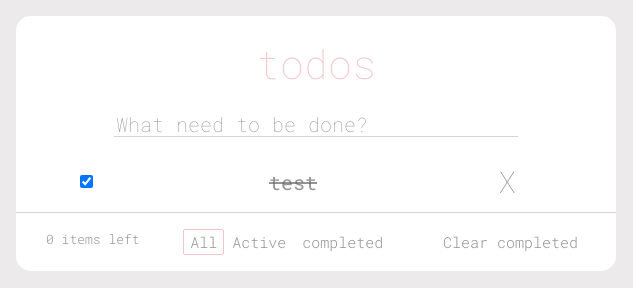
Test: ToDO testing › Input value -> Input keyEvent -> add 1 item -> delete item
Click the button with test id "delete-button" at (507, 182), box [490,168,524,196]
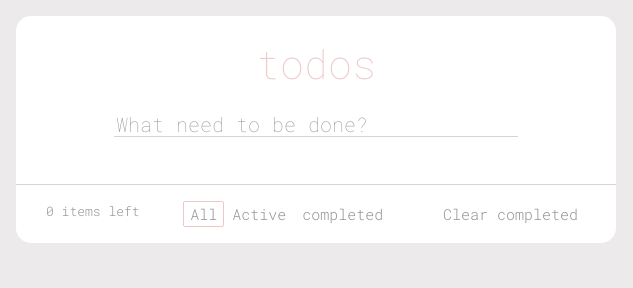
Now the text "test" is gone
